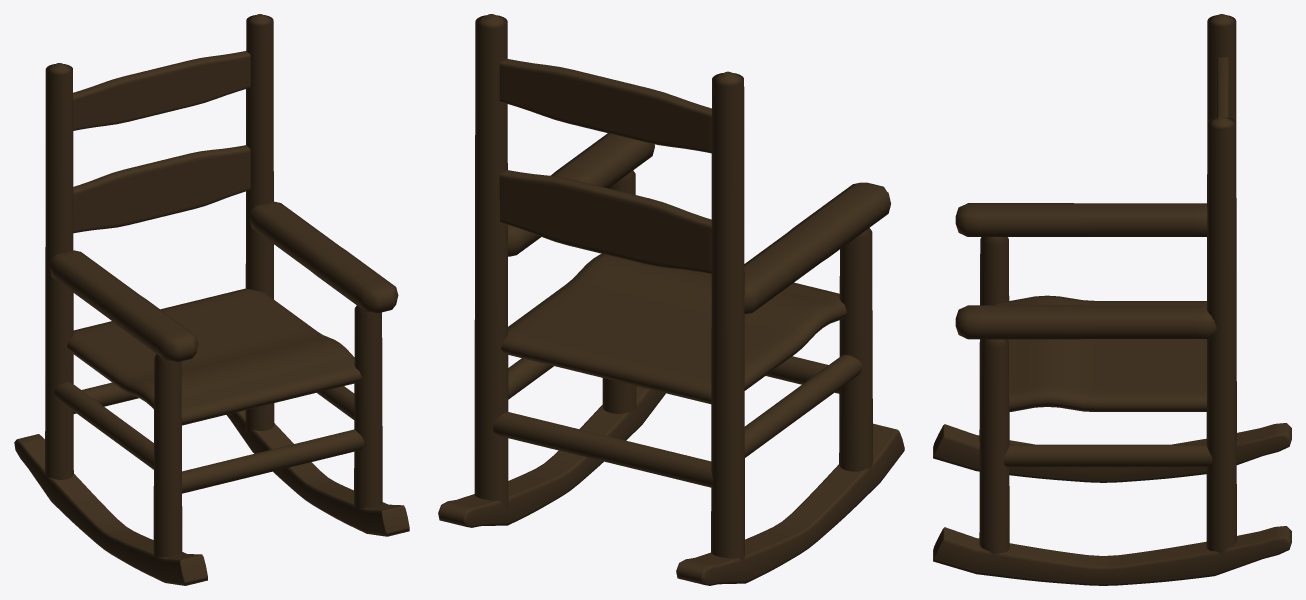
File: rocking chair2.fbx
3 renders of one model, left to right at view 1: azimuth 30°, elevation 25°; view 2: azimuth 150°, elevation 25°; view 3: azimuth 270°, elevation 25°, orthographic. The views are drawn at different scales.
Visible parts, largest first — view 1: pPlane6, pCylinder5, pPlane5, pPlane9, pPlane7, pPlane8, pCylinder4, pCylinder3, pCylinder9, pCylinder6, pCylinder8, pCylinder7; view 2: pCylinder5, pPlane6, pPlane9, pPlane7, pPlane5, pPlane8, pCylinder4, pCylinder8, pCylinder6, pCylinder3, pCylinder9, pCylinder7; view 3: pPlane9, pPlane5, pPlane6, pCylinder5, pCylinder3, pCylinder7, pCylinder4, pPlane8.
Boxes of the visible parts, x1=… form: pPlane6: x1=67, y1=288, x2=361, y2=425; pCylinder5: x1=45, y1=14, x2=274, y2=479; pPlane5: x1=49, y1=201, x2=398, y2=361; pPlane9: x1=14, y1=410, x2=409, y2=585; pPlane7: x1=73, y1=145, x2=250, y2=233; pPlane8: x1=73, y1=51, x2=250, y2=130; pCylinder4: x1=153, y1=354, x2=182, y2=557; pCylinder3: x1=354, y1=305, x2=382, y2=510; pCylinder9: x1=181, y1=429, x2=364, y2=493; pCylinder6: x1=54, y1=382, x2=153, y2=469; pCylinder8: x1=73, y1=382, x2=138, y2=413; pCylinder7: x1=317, y1=386, x2=354, y2=419; pCylinder5: x1=474, y1=14, x2=744, y2=560; pPlane6: x1=501, y1=254, x2=847, y2=404; pPlane9: x1=438, y1=386, x2=904, y2=585; pPlane7: x1=499, y1=170, x2=711, y2=273; pPlane5: x1=507, y1=133, x2=890, y2=314; pPlane8: x1=499, y1=58, x2=711, y2=153; pCylinder4: x1=839, y1=228, x2=872, y2=471; pCylinder8: x1=493, y1=411, x2=713, y2=487; pCylinder6: x1=744, y1=354, x2=862, y2=457; pCylinder3: x1=602, y1=170, x2=636, y2=413; pCylinder9: x1=766, y1=356, x2=841, y2=393; pCylinder7: x1=508, y1=358, x2=553, y2=399; pPlane9: x1=933, y1=423, x2=1291, y2=585; pPlane5: x1=955, y1=203, x2=1216, y2=339; pPlane6: x1=995, y1=295, x2=1206, y2=411; pCylinder5: x1=1206, y1=14, x2=1236, y2=553; pCylinder3: x1=979, y1=339, x2=1009, y2=554; pCylinder7: x1=1003, y1=444, x2=1212, y2=467; pCylinder4: x1=979, y1=237, x2=1009, y2=444; pPlane8: x1=1217, y1=57, x2=1228, y2=117.
Bounding box in the file's own units: 18.72 × 33.68 × 23.69.
